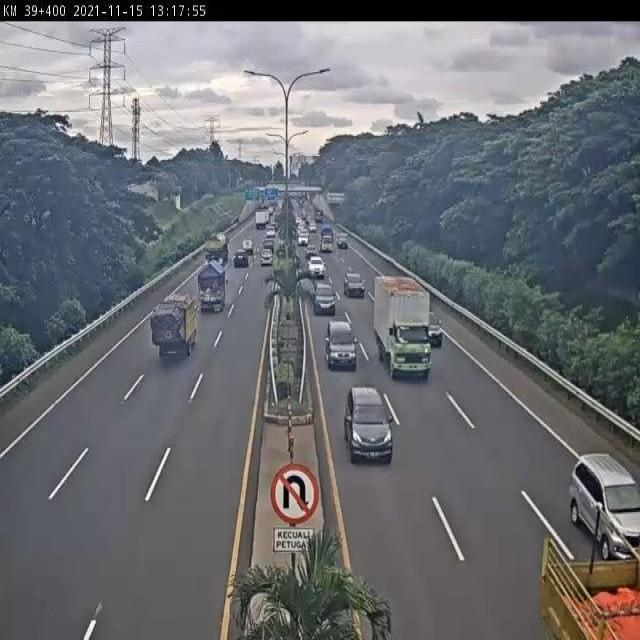Car: (568, 455, 640, 557), (343, 387, 395, 466), (324, 320, 358, 370), (313, 280, 337, 314), (427, 312, 444, 348), (343, 272, 365, 298), (307, 255, 325, 279), (233, 250, 250, 267), (260, 248, 274, 266), (336, 234, 348, 249)
Truck: (534, 534, 640, 640), (372, 275, 433, 383), (149, 294, 198, 361), (198, 260, 231, 314), (205, 232, 230, 271), (319, 222, 335, 254), (254, 207, 266, 230)
